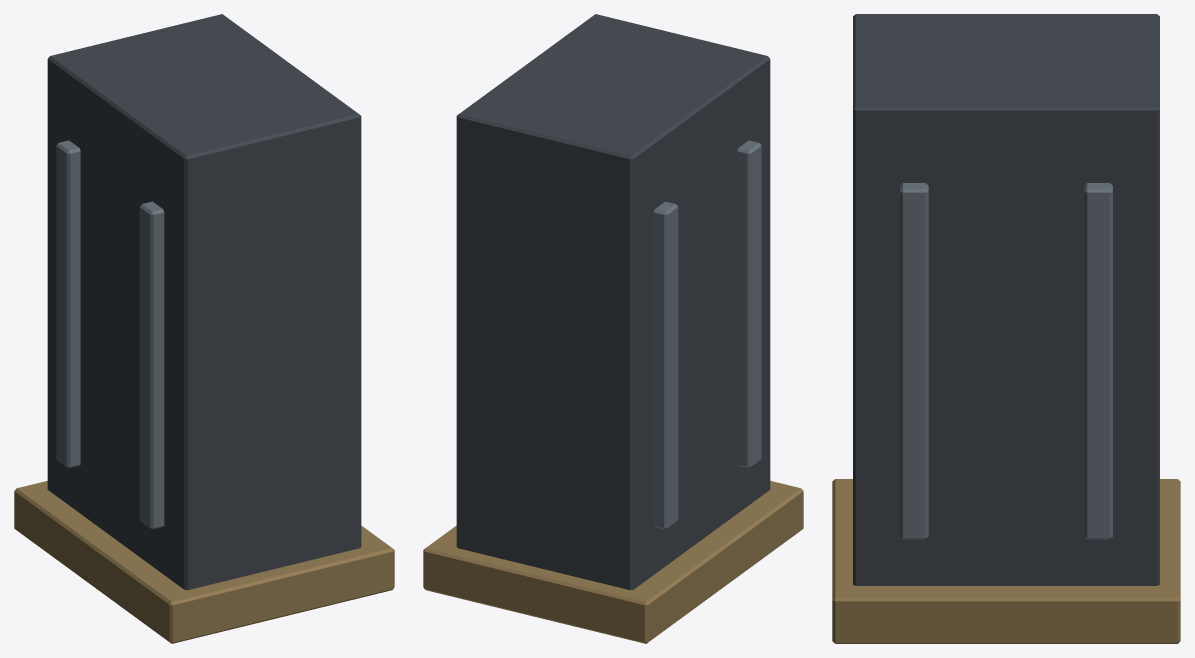
Rendered from Firearm_812.fbx.
The picture shows the model from 3 angles, left to right: view 1: azimuth 30°, elevation 25°; view 2: azimuth 150°, elevation 25°; view 3: azimuth 270°, elevation 25°; orthographic projection. The views are drawn at different scales.
Visible parts, largest first — view 1: Firearm_812; view 2: Firearm_812; view 3: Firearm_812.
Boxes of the visible parts, box(x1,y1,x2,y2) form: Firearm_812: box(14, 14, 394, 643); Firearm_812: box(423, 14, 803, 643); Firearm_812: box(832, 14, 1180, 643).
Bounding box in the file's own units: 0.14 × 0.2825 × 0.17.
